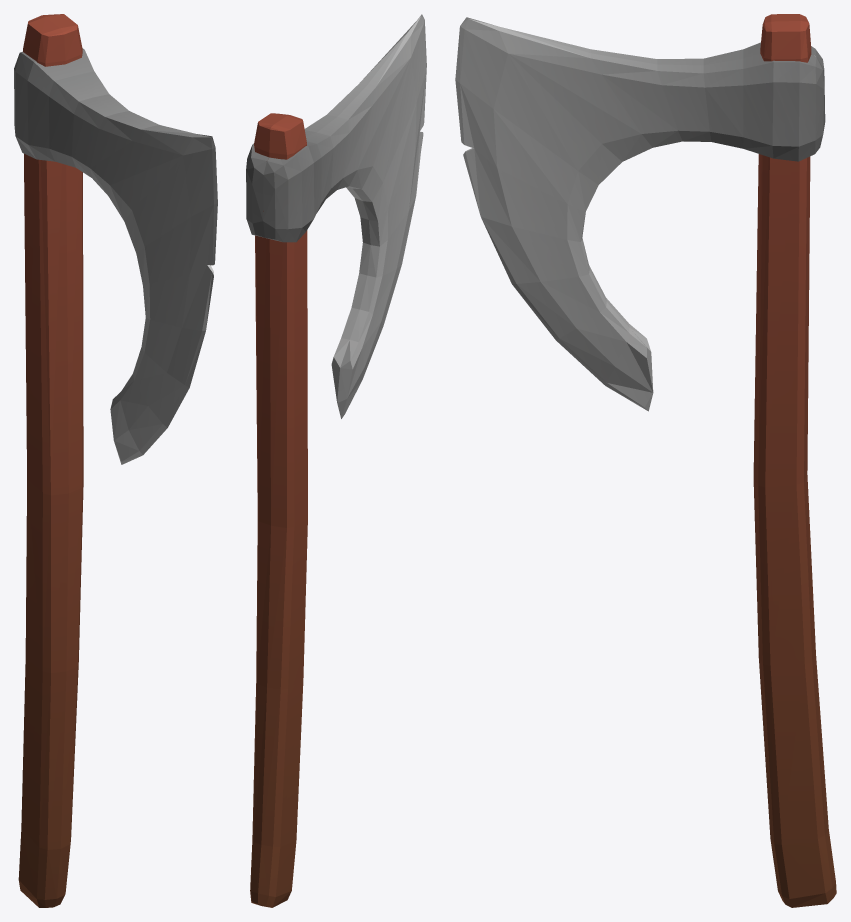
Rendered from onehandaxe.glb.
The picture shows the model from 3 angles, left to right: view 1: azimuth 30°, elevation 25°; view 2: azimuth 150°, elevation 25°; view 3: azimuth 270°, elevation 25°; orthographic projection. The views are drawn at different scales.
Parts seen in each view (by area): view 1: OnehandAxe_mesh1; view 2: OnehandAxe_mesh1; view 3: OnehandAxe_mesh1.
Boxes of the visible parts, x1=… form: OnehandAxe_mesh1: x1=14, y1=14, x2=217, y2=907; OnehandAxe_mesh1: x1=246, y1=14, x2=426, y2=907; OnehandAxe_mesh1: x1=455, y1=14, x2=836, y2=907.
Bounding box in the file's own units: 0.0526 × 0.7048 × 0.2746.
Materials: 1 (1 with a texture image).
